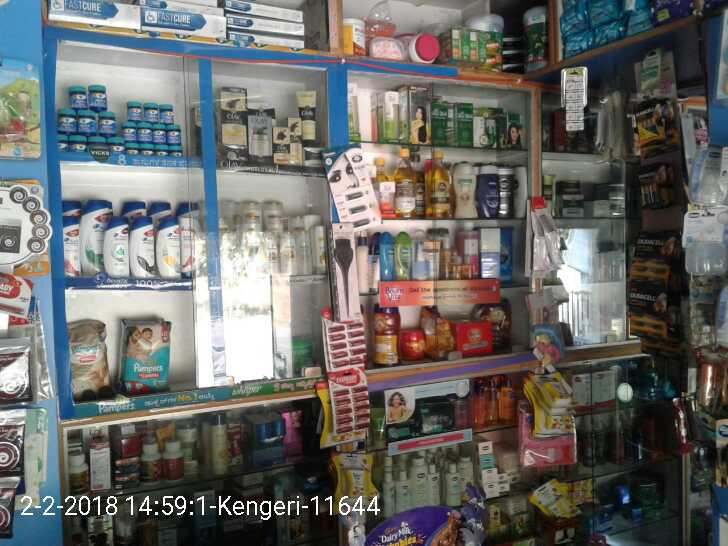beauty: (214, 203, 325, 278), (77, 196, 117, 283), (157, 212, 186, 277), (129, 213, 159, 272), (217, 91, 245, 153), (294, 86, 326, 139), (105, 213, 131, 277), (245, 110, 272, 160), (283, 110, 303, 165), (273, 125, 288, 170)
pharmacy: (63, 316, 114, 401), (119, 320, 177, 388), (55, 111, 117, 134), (126, 98, 181, 123), (123, 144, 182, 159), (121, 124, 183, 138), (62, 84, 88, 111), (89, 79, 108, 107)
